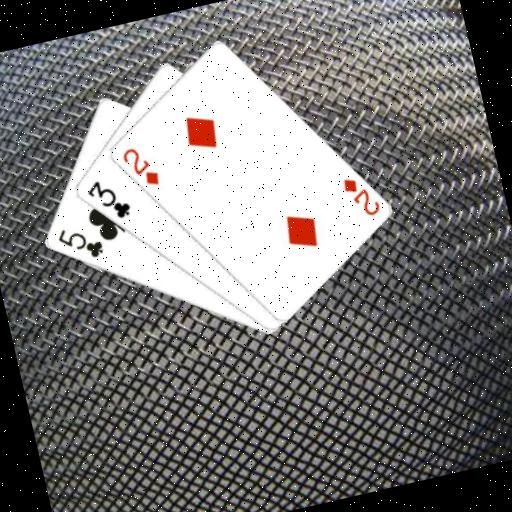2D: (117, 140, 163, 193), (338, 169, 383, 223)
3C: (81, 171, 134, 227)
5C: (52, 218, 107, 268)
